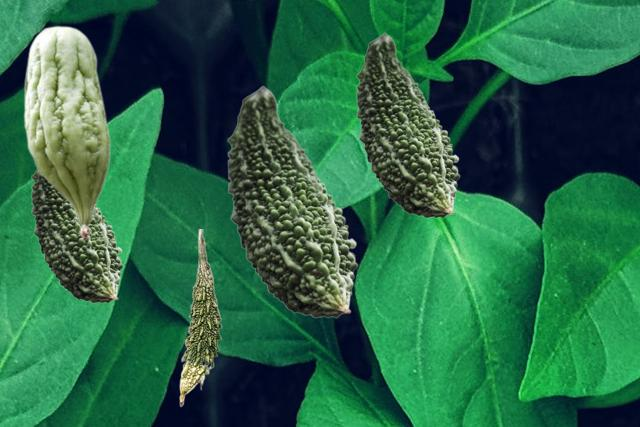ampalaya: (227, 85, 357, 317), (356, 32, 459, 217), (23, 25, 110, 240), (31, 170, 122, 302), (179, 229, 221, 406)
